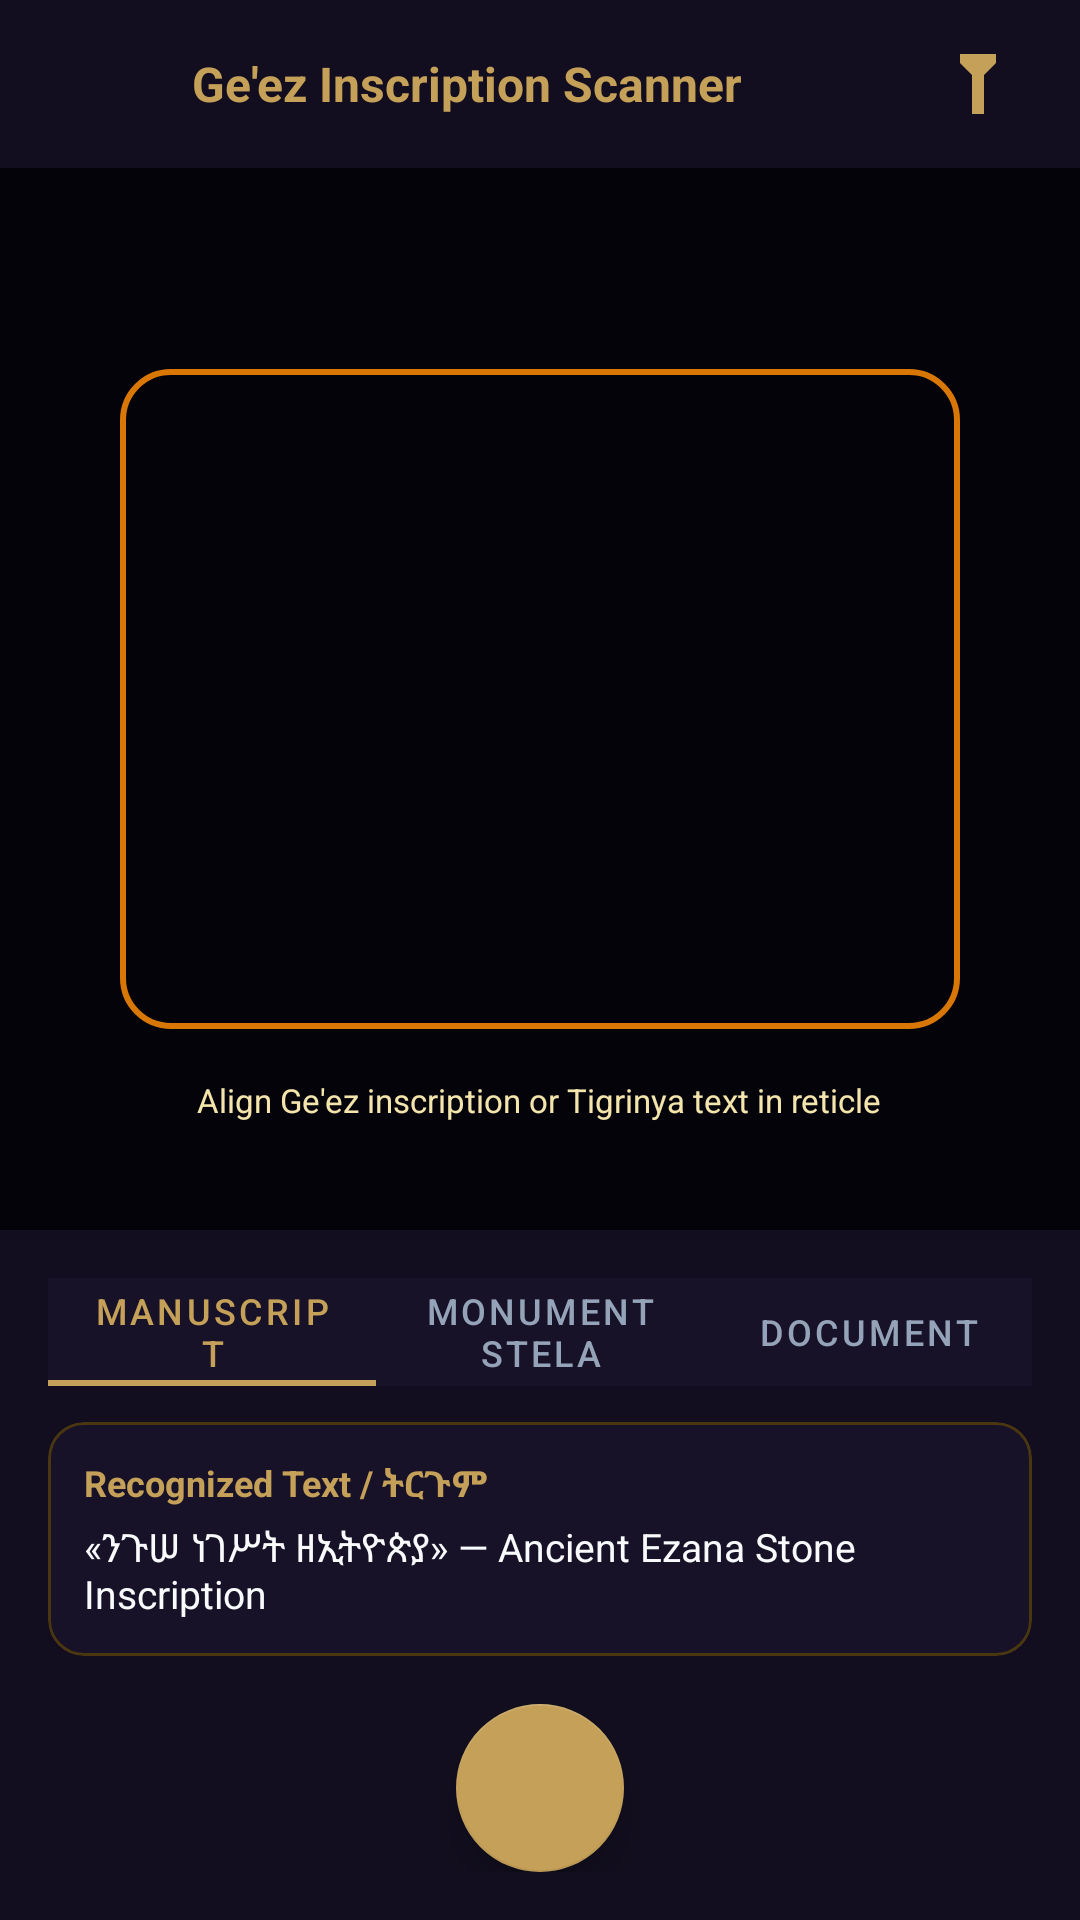

Point at icon controls on the screen. Image size 1080x1920, points as [x,y].
Toggle Flashlight: [978,84]
